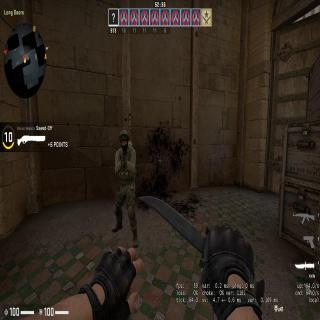CT-Body: (111, 127, 141, 238)
CT-Head: (119, 132, 130, 149)
